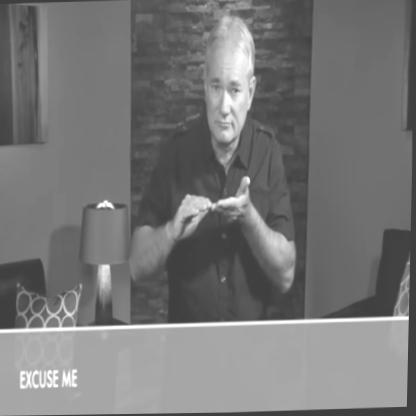ExcuseMe: (129, 6, 307, 325)
